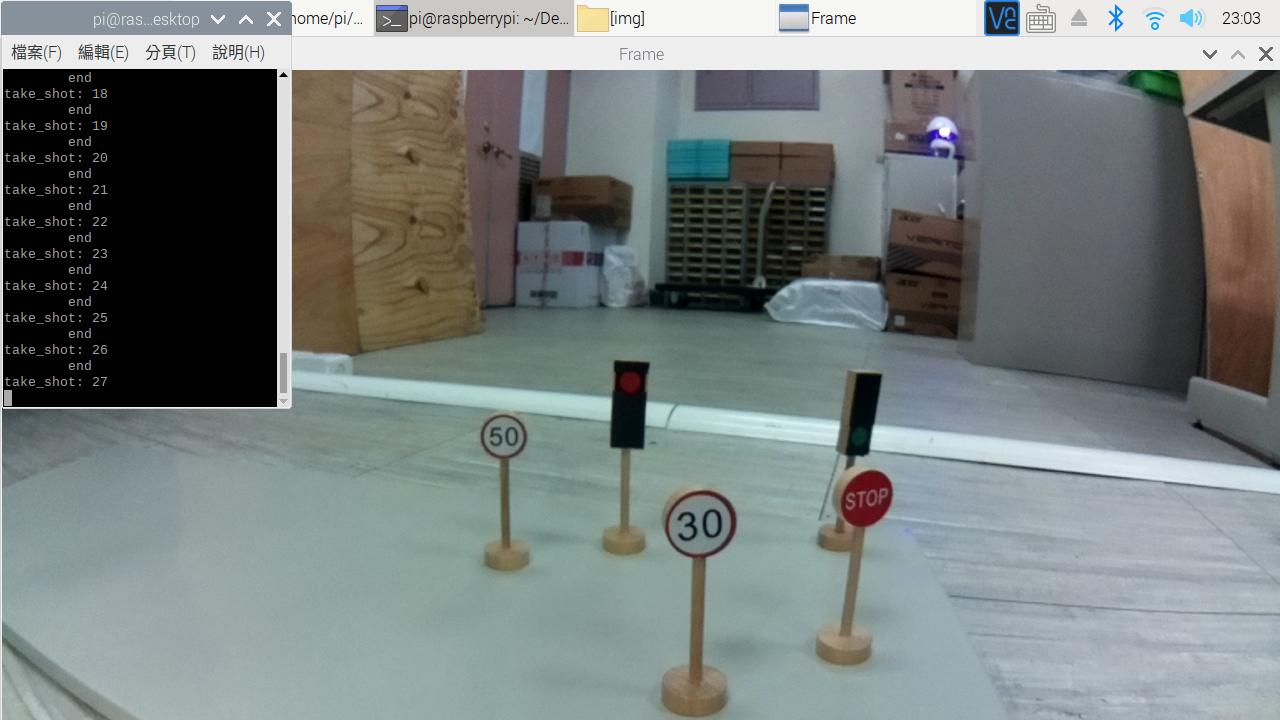Green: (844, 368, 874, 451)
Red: (612, 361, 648, 453)
Speed30: (662, 485, 740, 553)
Speed50: (480, 411, 528, 459)
Stop: (831, 466, 894, 522)
